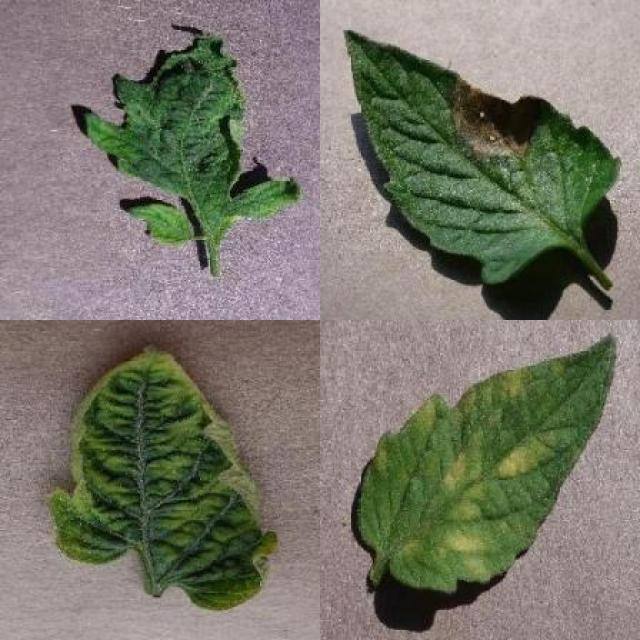Late Blight: (341, 28, 623, 282)
Leaf Mold: (359, 335, 615, 595)
Mosaic Virus: (81, 34, 305, 246)
Yellow Leaf Curl Virus: (48, 346, 282, 611)
